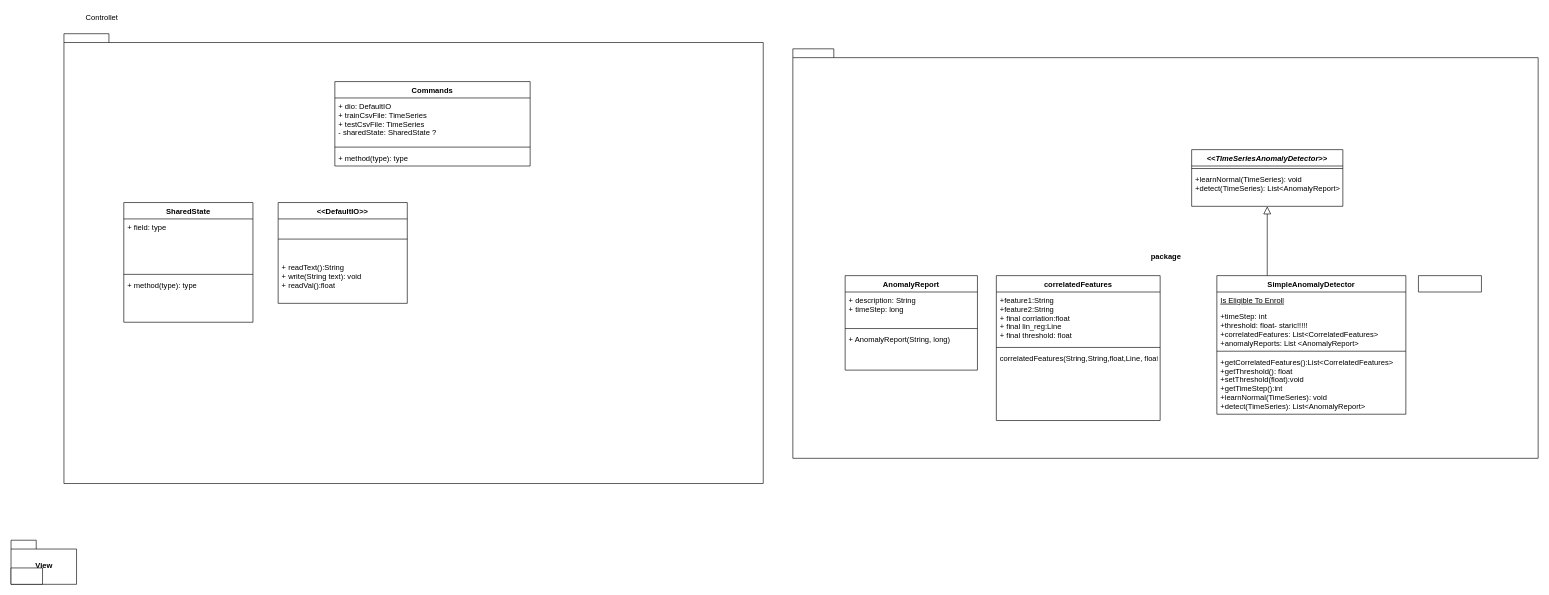
Image size: 1549x595. Some labels were removed from this diagram. The centre of each missing label's shape, as x and y in pixels:
"CLI" belongs at pixel 26 575.
"TimeSeries" belongs at pixel 1449 283.
